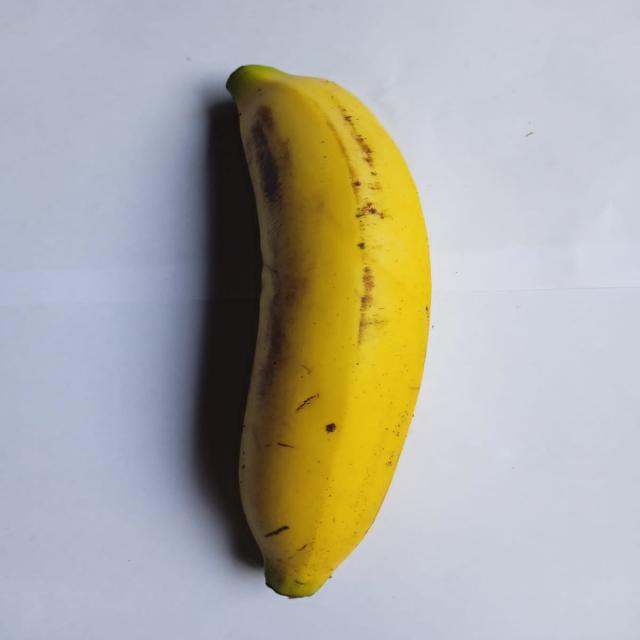banana: (228, 66, 430, 596)
